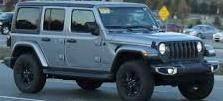SUV: (8, 4, 214, 101)
